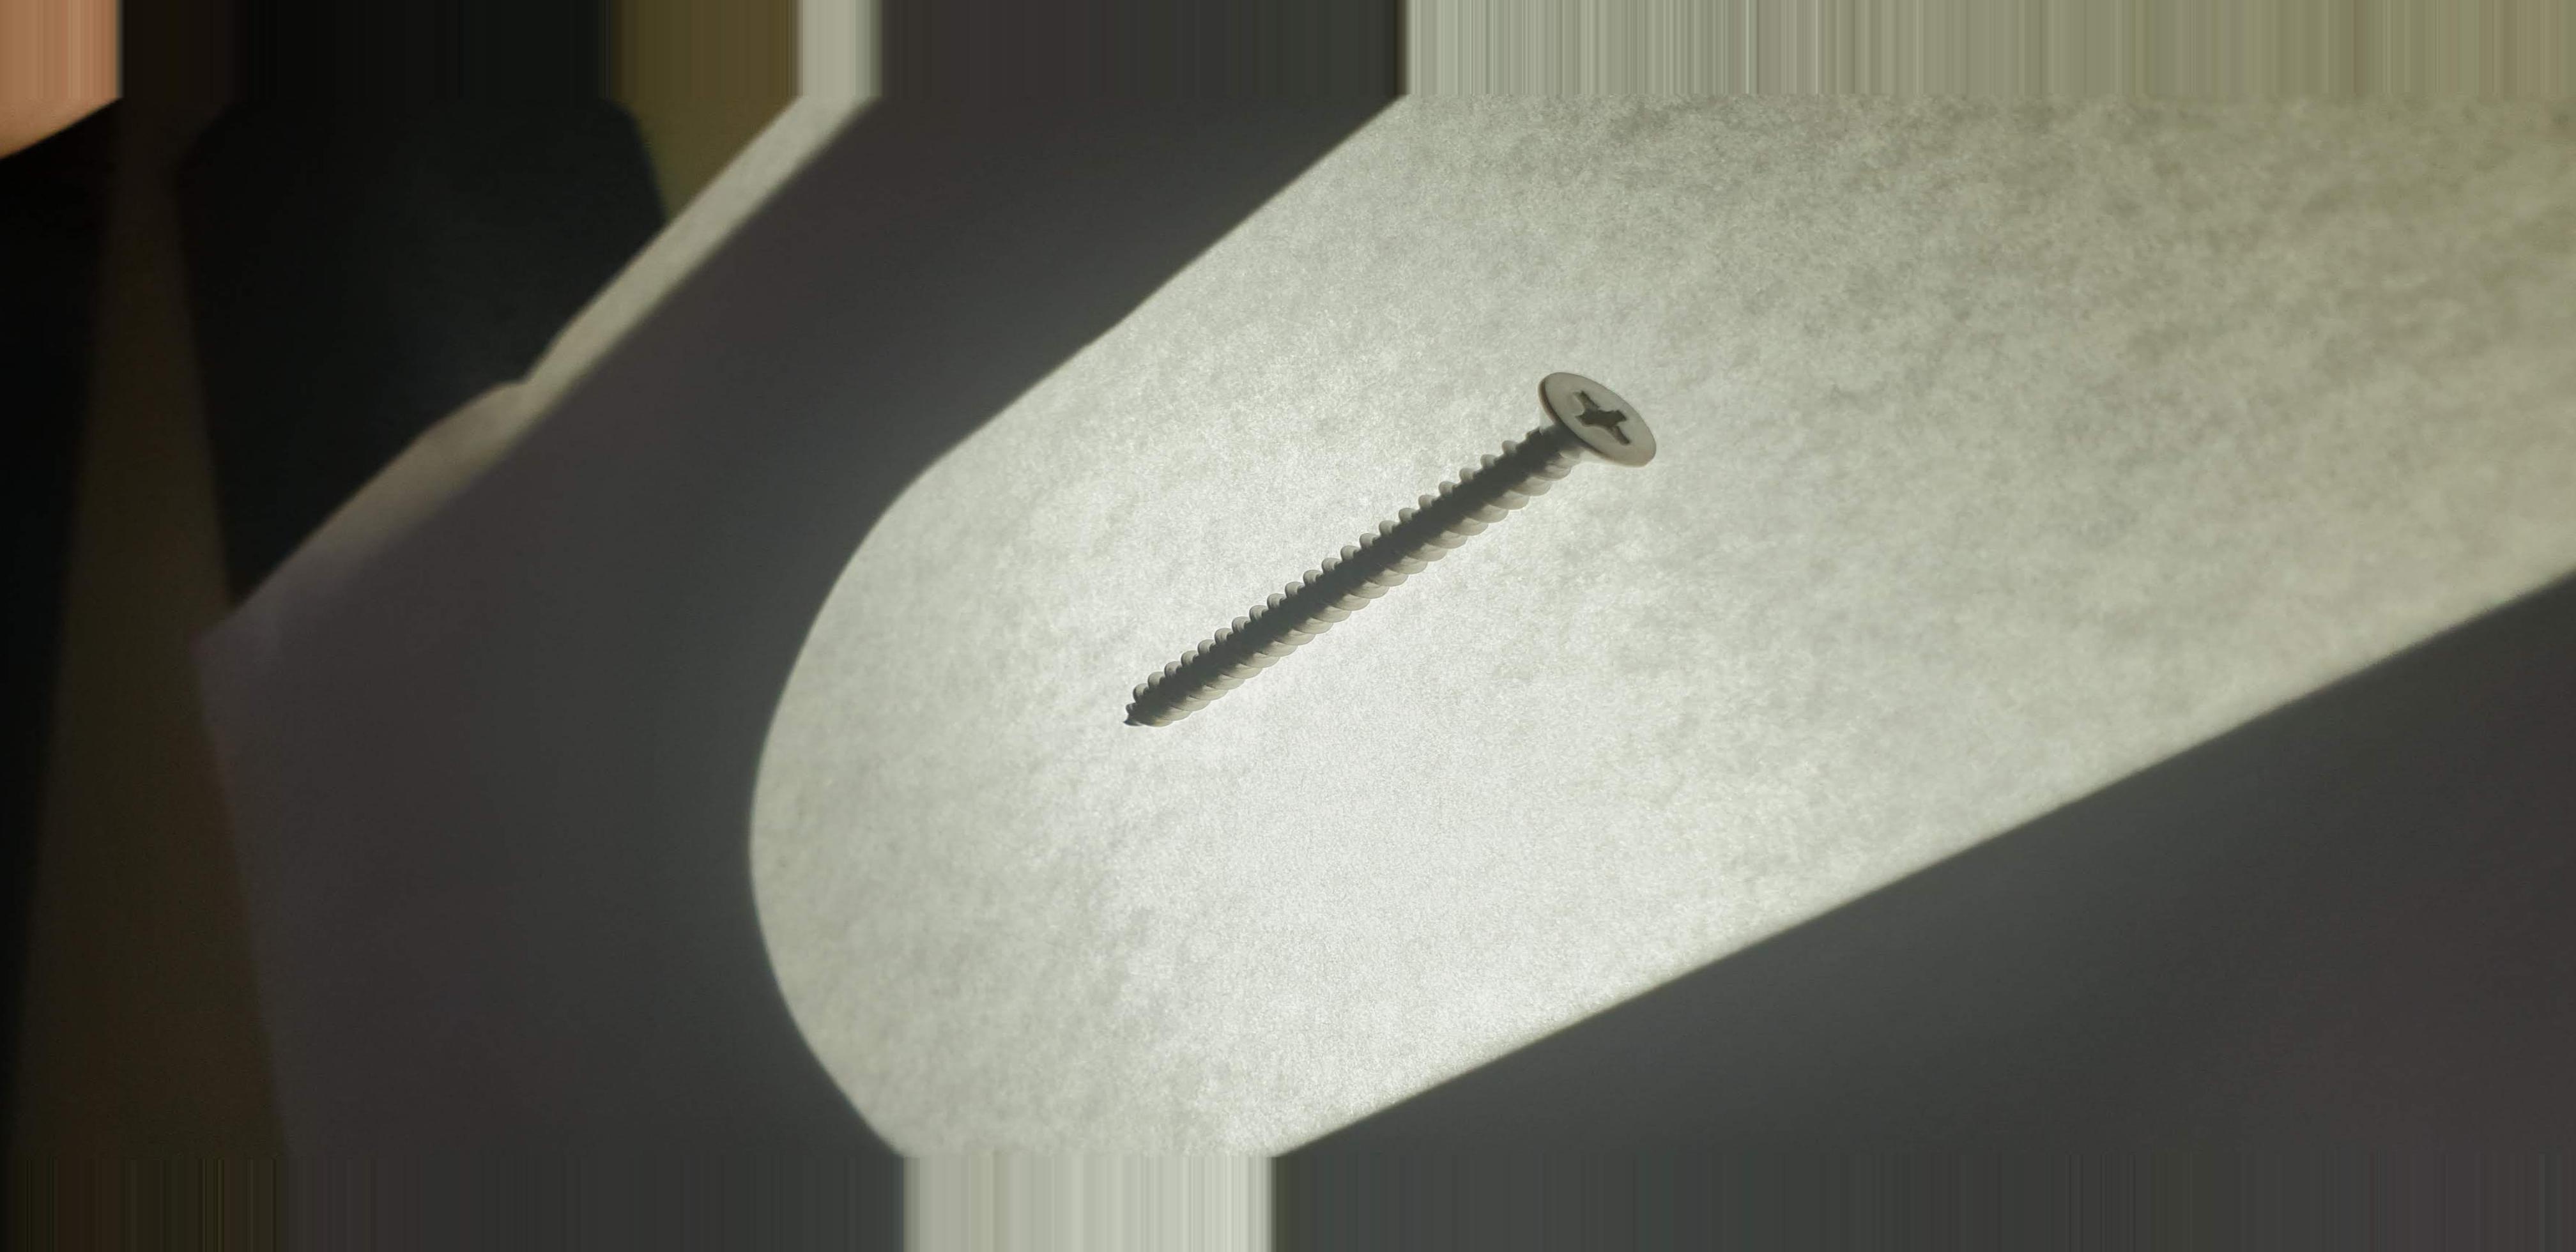S001: (1043, 345, 1717, 764)
